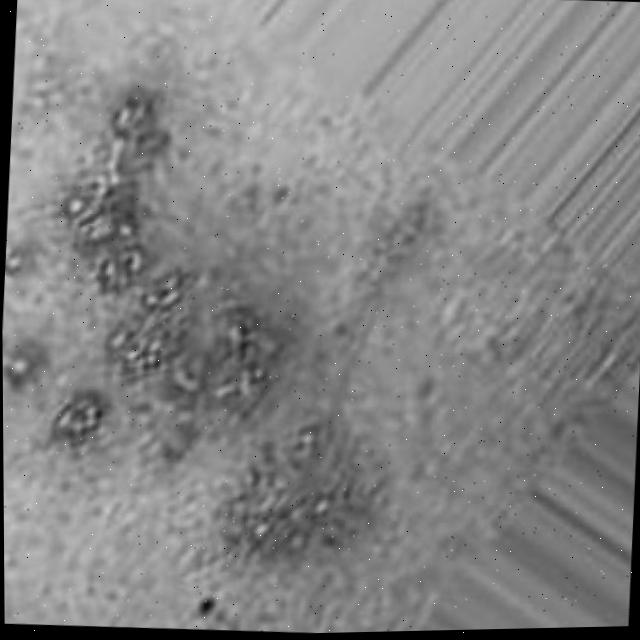Shingles: (46, 89, 298, 457), (215, 421, 374, 559)
